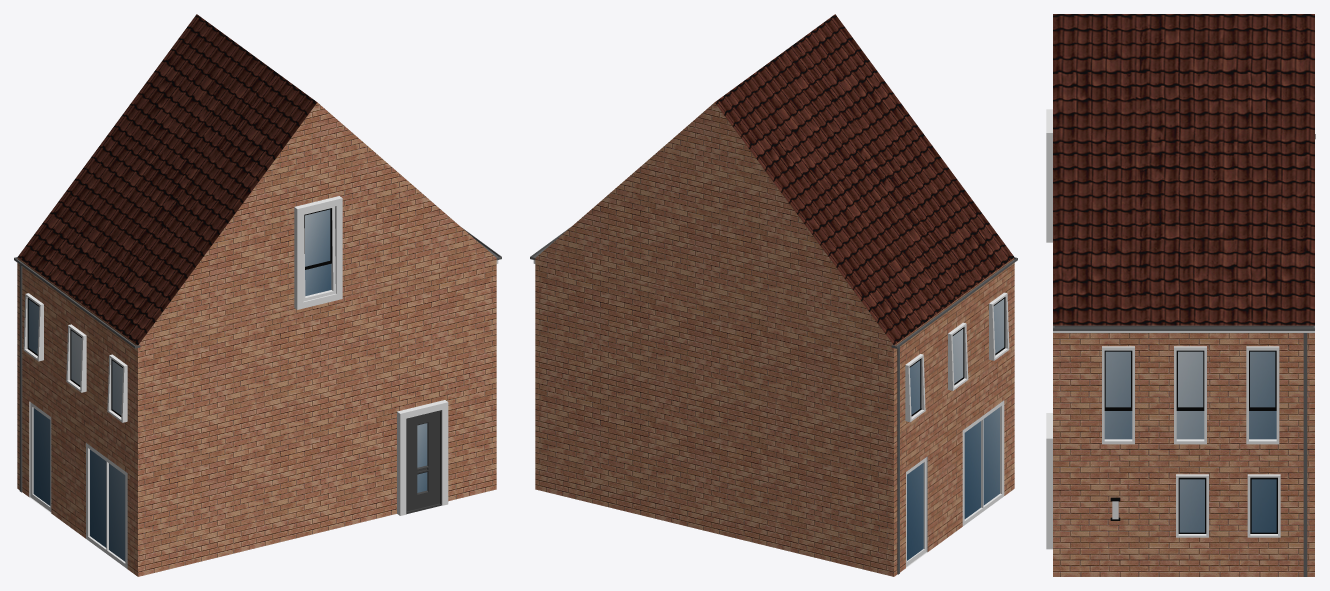
Rendered from Woning_39723_B1Z1.fbx.
3 views of the same model, side by side, from view 1: azimuth 30°, elevation 25°; view 2: azimuth 150°, elevation 25°; view 3: azimuth 270°, elevation 25° (orthographic). The views are drawn at different scales.
Parts seen in each view (by area): view 1: Woning_39723_B1Z1; view 2: Woning_39723_B1Z1; view 3: Woning_39723_B1Z1.
Boxes of the visible parts, x1,y1,x2,y2 form: Woning_39723_B1Z1: (14,14,501,576); Woning_39723_B1Z1: (530,14,1017,576); Woning_39723_B1Z1: (1046,14,1315,576).
Size of the model in its own units: 9.59 by 10.7 by 5.59.
